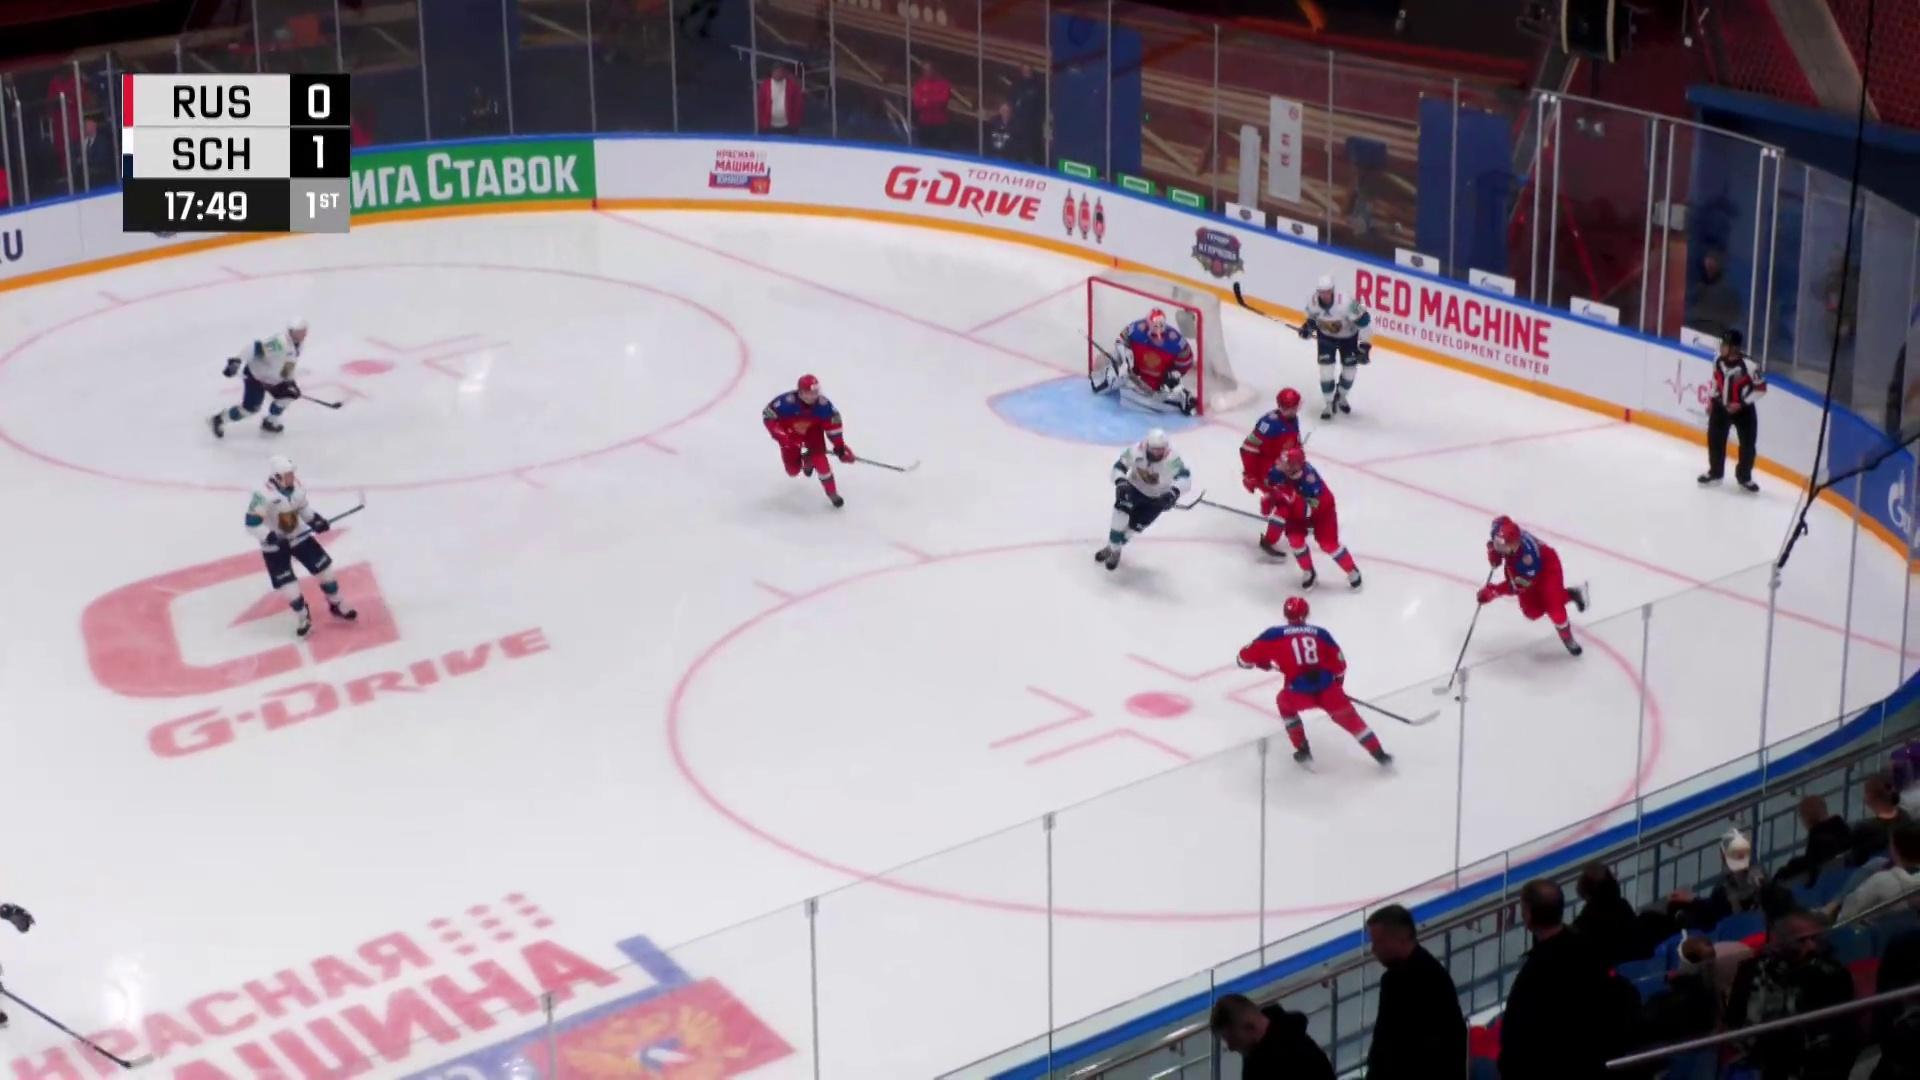ball: (1455, 695, 1462, 703)
